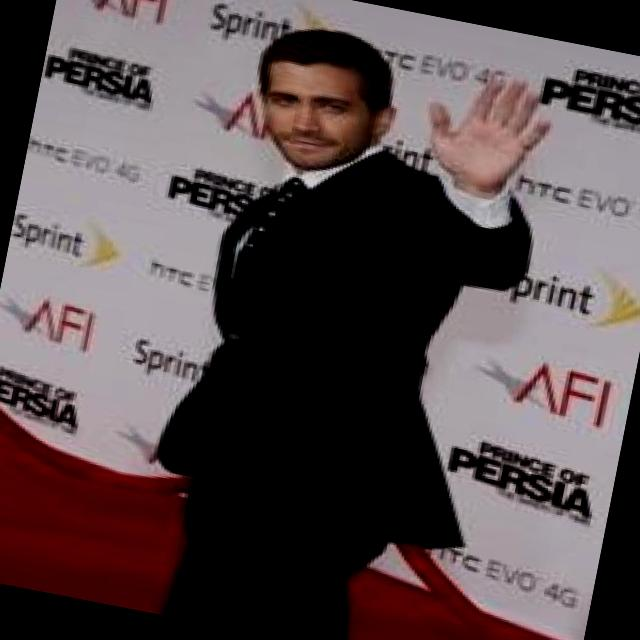no_vest: (156, 128, 542, 586)
